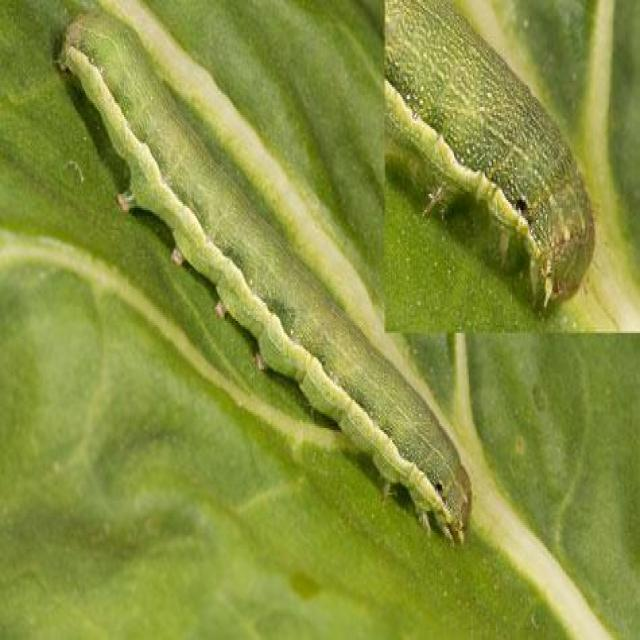BeetArmyWorm-Larva-: (58, 6, 479, 546)
